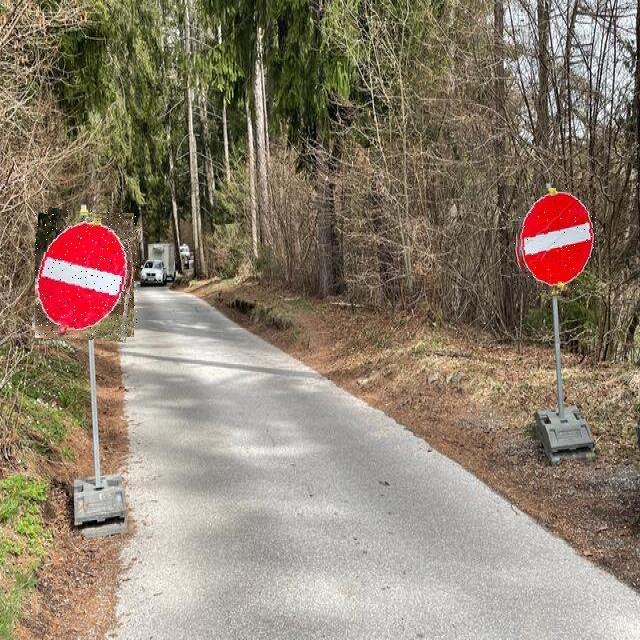no entry: (35, 210, 138, 340), (513, 188, 596, 294)
